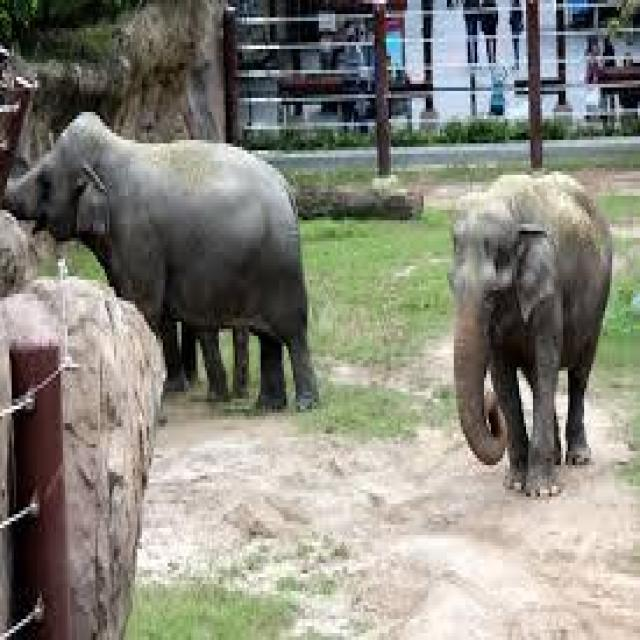Elephant: (0, 108, 314, 406), (438, 164, 614, 500)
